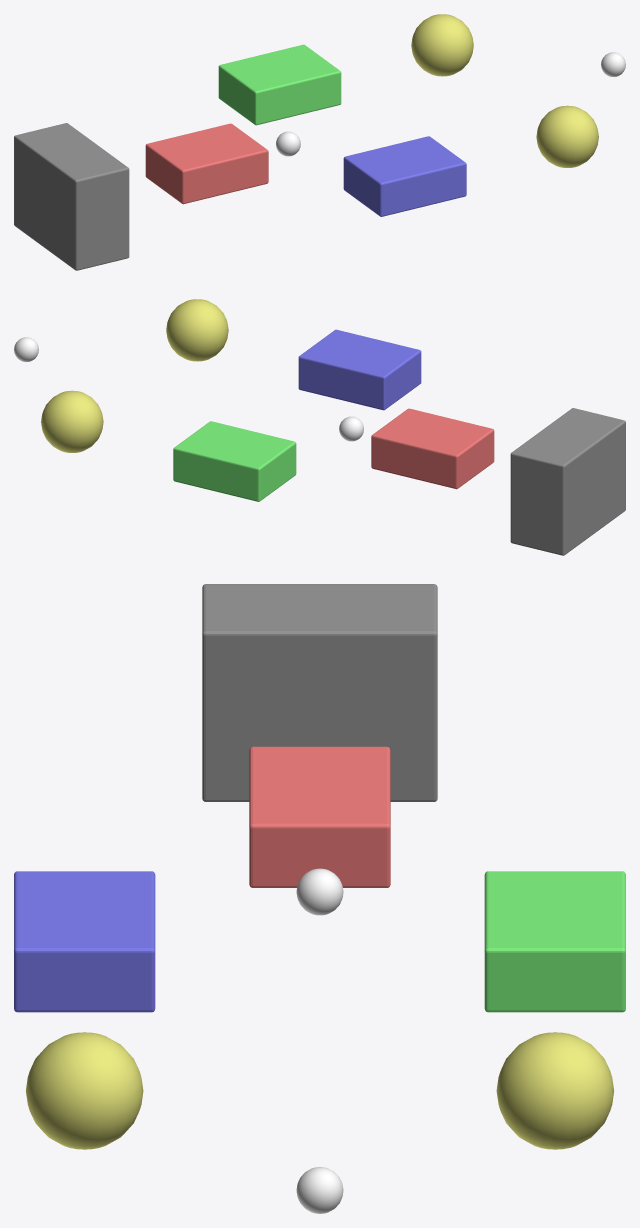
File: intensite_courant_v1.glb
3 views of the same model, one above another, from view 1: azimuth 30°, elevation 25°; view 2: azimuth 150°, elevation 25°; view 3: azimuth 270°, elevation 25° (orthographic). The views are drawn at different scales.
Parts seen in each view (by area): view 1: battery, ammeter_total, ammeter_1, ammeter_2, bulb_1, bulb_2, node_in, node_out; view 2: battery, ammeter_total, ammeter_1, ammeter_2, bulb_2, bulb_1, node_in, node_out; view 3: battery, ammeter_1, ammeter_2, ammeter_total, bulb_1, bulb_2, node_in, node_out.
Boxes of the visible parts, x1=… form: battery: x1=14, y1=123, x2=129, y2=270; ammeter_total: x1=145, y1=123, x2=268, y2=204; ammeter_1: x1=218, y1=44, x2=341, y2=125; ammeter_2: x1=343, y1=136, x2=466, y2=216; bulb_1: x1=411, y1=14, x2=473, y2=76; bulb_2: x1=536, y1=105, x2=598, y2=167; node_in: x1=276, y1=131, x2=300, y2=156; node_out: x1=601, y1=52, x2=625, y2=76; battery: x1=510, y1=408, x2=625, y2=555; ammeter_total: x1=371, y1=408, x2=494, y2=489; ammeter_1: x1=173, y1=421, x2=296, y2=501; ammeter_2: x1=298, y1=329, x2=421, y2=410; bulb_2: x1=166, y1=299, x2=228, y2=361; bulb_1: x1=41, y1=390, x2=103, y2=452; node_in: x1=339, y1=416, x2=363, y2=441; node_out: x1=14, y1=337, x2=38, y2=361; battery: x1=202, y1=584, x2=437, y2=801; ammeter_1: x1=484, y1=871, x2=625, y2=1012; ammeter_2: x1=14, y1=871, x2=155, y2=1012; ammeter_total: x1=249, y1=746, x2=390, y2=887; bulb_1: x1=496, y1=1032, x2=613, y2=1149; bulb_2: x1=26, y1=1032, x2=143, y2=1149; node_in: x1=296, y1=868, x2=343, y2=915; node_out: x1=296, y1=1167, x2=343, y2=1213.
Bounding box in the file's own units: 10.7 × 1.6 × 5.2.
